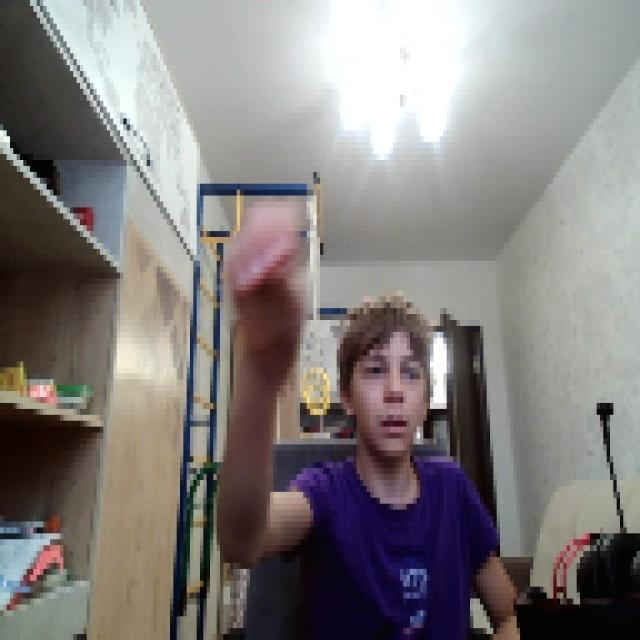left_click: (223, 190, 300, 368)
